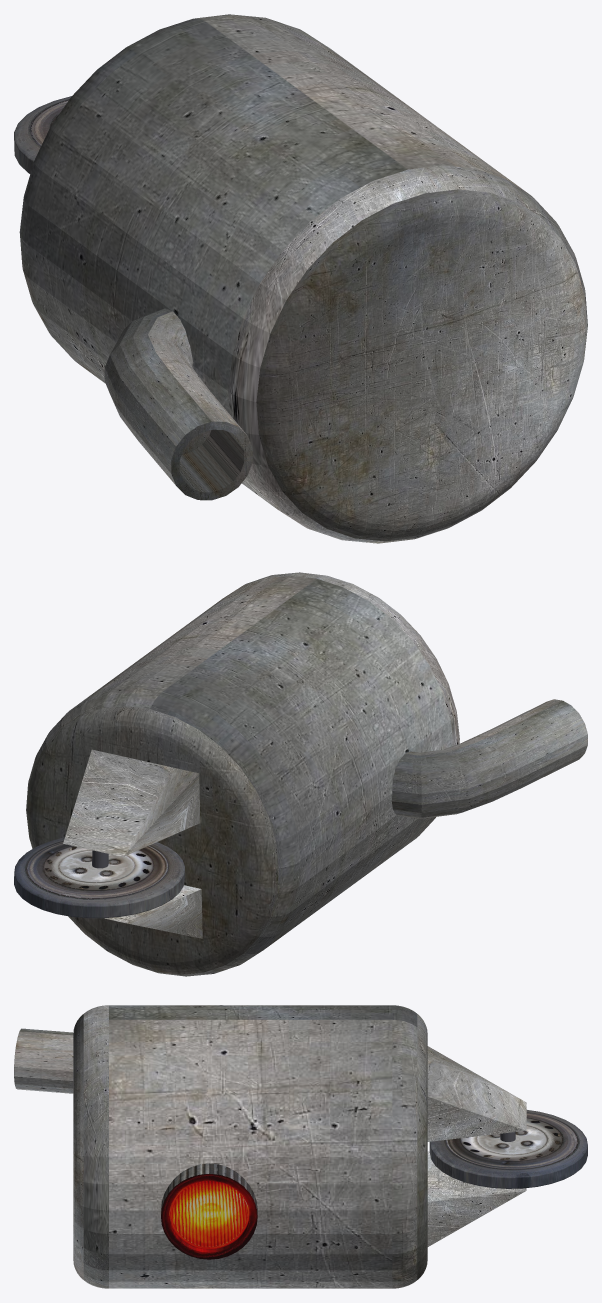
File: Бочонок.fbx
3 renders of one model, top to bottom at view 1: azimuth 30°, elevation 25°; view 2: azimuth 150°, elevation 25°; view 3: azimuth 270°, elevation 25°, orthographic. The views are drawn at different scales.
Parts seen in each view (by area): view 1: Цилиндр.019, Cylinder, Цилиндр.003; view 2: Цилиндр.019, Cylinder, Цилиндр.003; view 3: Цилиндр.019, Цилиндр.003, Цилиндр.004, Cylinder.
Boxes of the visible parts, x1=… form: Цилиндр.019: x1=19, y1=14, x2=587, y2=543; Cylinder: x1=104, y1=308, x2=252, y2=500; Цилиндр.003: x1=14, y1=96, x2=71, y2=173; Цилиндр.019: x1=26, y1=572, x2=459, y2=976; Cylinder: x1=391, y1=699, x2=587, y2=818; Цилиндр.003: x1=14, y1=837, x2=184, y2=918; Цилиндр.019: x1=73, y1=1005, x2=526, y2=1288; Цилиндр.003: x1=429, y1=1110, x2=587, y2=1188; Цилиндр.004: x1=161, y1=1163, x2=257, y2=1259; Cylinder: x1=14, y1=1028, x2=73, y2=1093.
Bounding box in the file's own units: 5.07 × 2.5 × 3.5.
